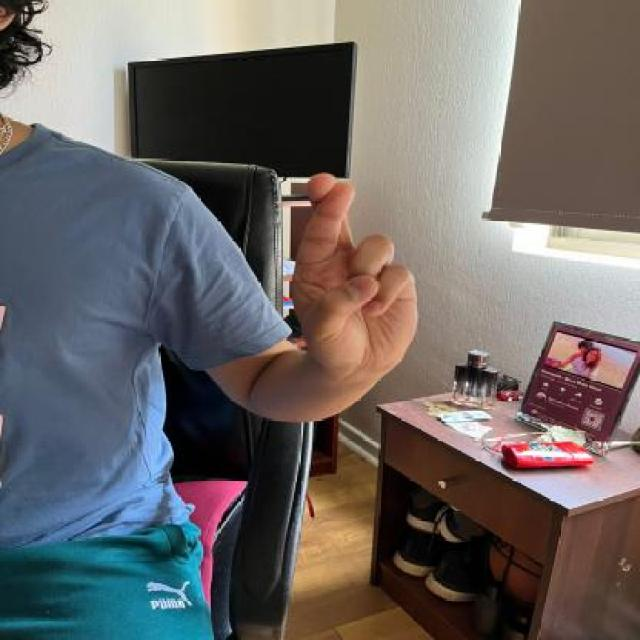R: (286, 171, 422, 374)
